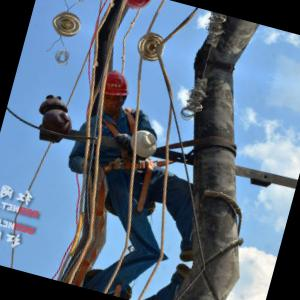helmet: (94, 64, 136, 118), (119, 1, 157, 19)
